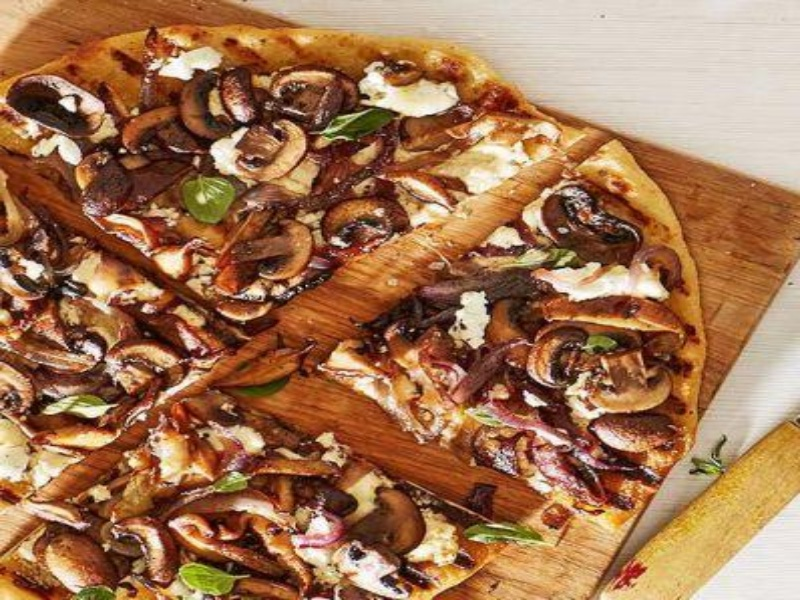champignon: (573, 347, 683, 418), (216, 210, 318, 285), (104, 332, 190, 409), (231, 114, 309, 191), (329, 539, 412, 600)
